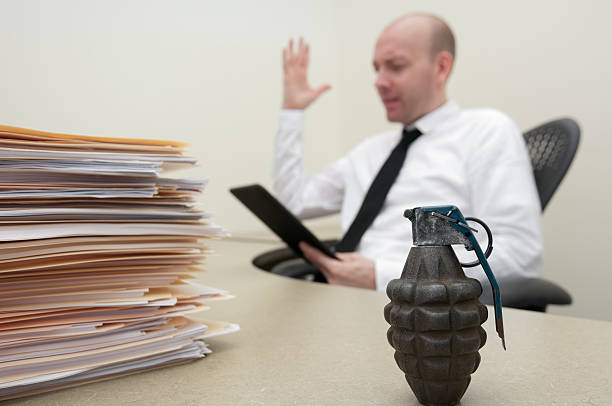e1: (385, 205, 509, 403)
